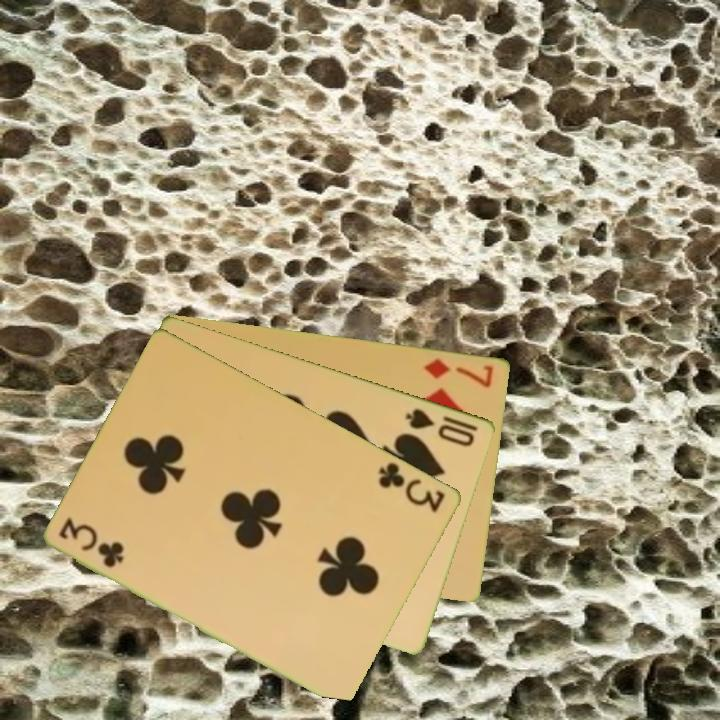10s: (402, 404, 478, 450)
3c: (375, 458, 448, 516), (56, 515, 128, 571)
7d: (421, 354, 497, 391)
